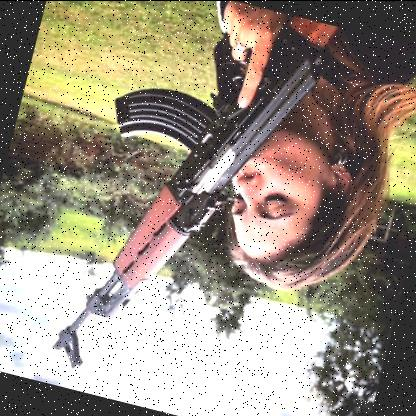rifle: (43, 0, 347, 410)
